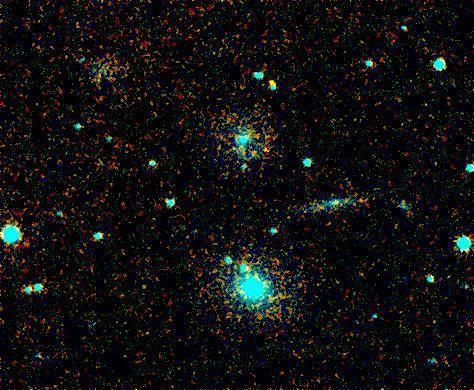star: (258, 66, 288, 96)
